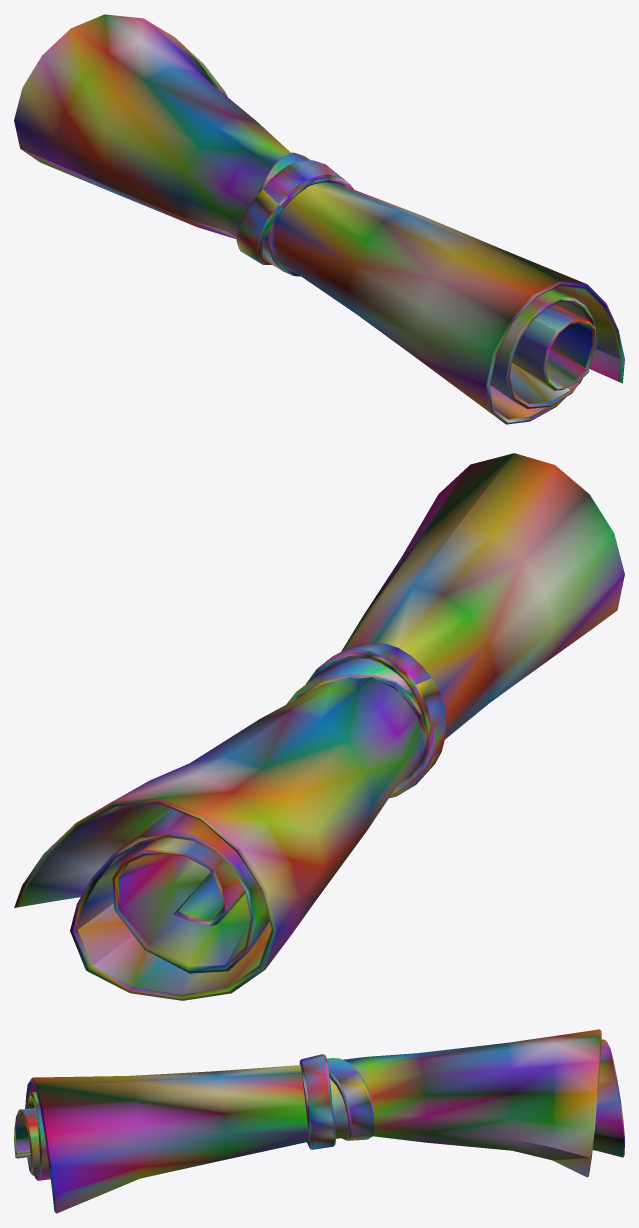
The model's file is Parchment02.fbx.
3 renders of one model, top to bottom at view 1: azimuth 30°, elevation 25°; view 2: azimuth 150°, elevation 25°; view 3: azimuth 270°, elevation 25°, orthographic. The views are drawn at different scales.
Parts seen in each view (by area): view 1: Parchment.001; view 2: Parchment.001; view 3: Parchment.001.
Boxes of the visible parts, box(x1,y1,x2,y2) form: Parchment.001: box(14, 14, 624, 424); Parchment.001: box(14, 453, 624, 1000); Parchment.001: box(14, 1029, 624, 1213).
Bounding box in the file's own units: 56.21 × 31.62 × 151.
